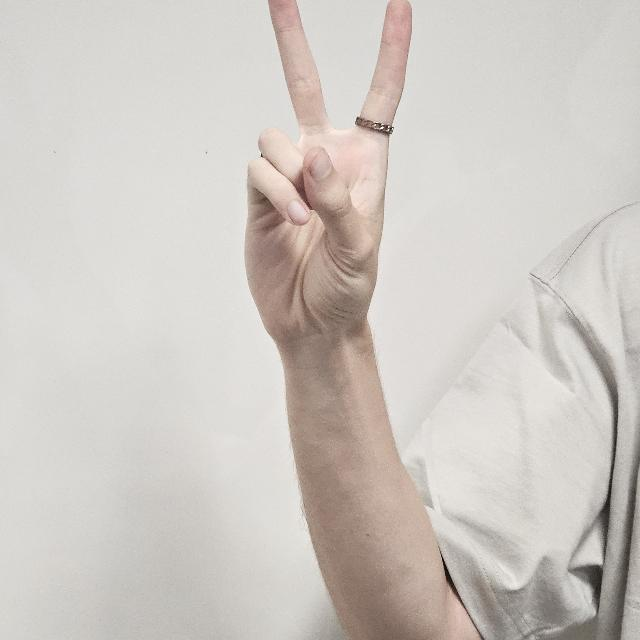Triangulo: (242, 2, 414, 340)
